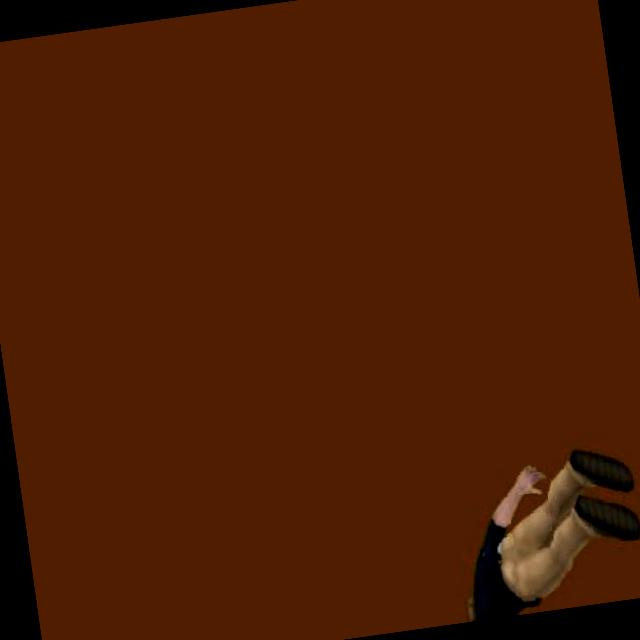Person: (443, 437, 640, 621)
